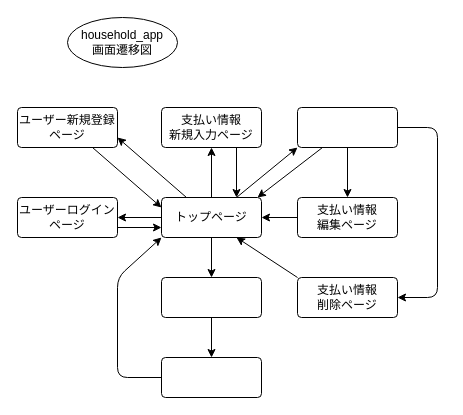
This 463x415 diagram has some shape labels left out. The shapes that lost their labels are listed below. From the top down, each one's centre as x and y in pixels, then its label:
(347,127): 支払い情報 詳細ページ
(211,297): 精算ページ
(211,377): 精算結果出力 ページ
